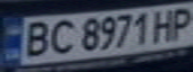1: (130, 9, 154, 46)
7: (115, 11, 136, 48)
8: (78, 15, 103, 52)
9: (97, 12, 118, 51)
B: (18, 18, 54, 58)
C: (45, 17, 78, 56)
H: (148, 7, 181, 43)
P: (166, 3, 193, 41)
